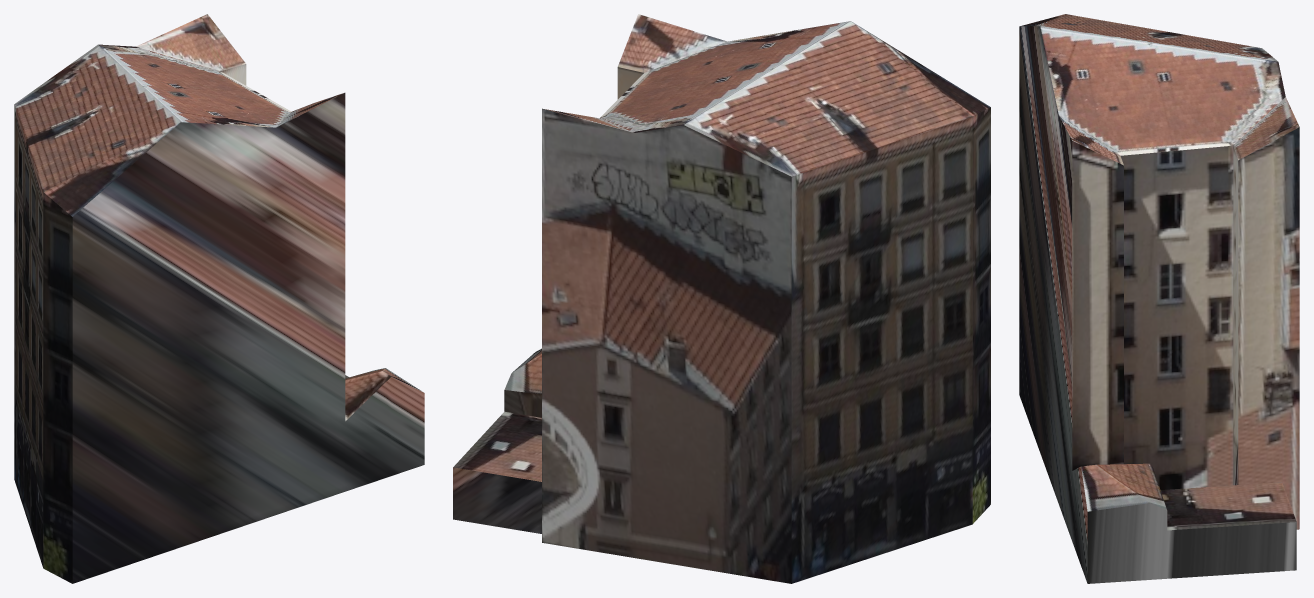
3 views of the same model, side by side, from view 1: azimuth 30°, elevation 25°; view 2: azimuth 150°, elevation 25°; view 3: azimuth 270°, elevation 25° (orthographic). The views are drawn at different scales.
Visible parts, largest first — view 1: Z_UP; view 2: Z_UP; view 3: Z_UP.
Part boxes in pixels (x1=…): Z_UP: x1=14, y1=14, x2=424, y2=583; Z_UP: x1=453, y1=14, x2=990, y2=583; Z_UP: x1=1019, y1=14, x2=1299, y2=583.
Size of the model in its own units: 21.97 by 22.76 by 13.55.
Materials: 2 (1 with a texture image).
